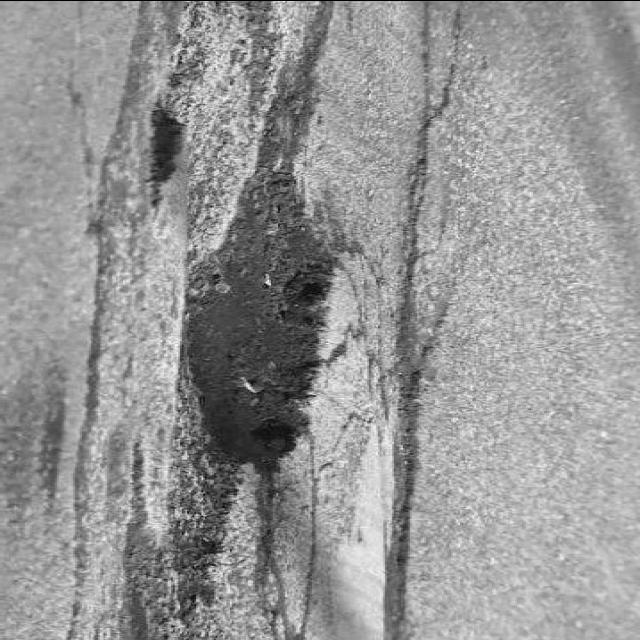jalan retak: (366, 0, 512, 640), (82, 2, 354, 226), (61, 462, 364, 640)
lubang: (98, 97, 378, 505)
